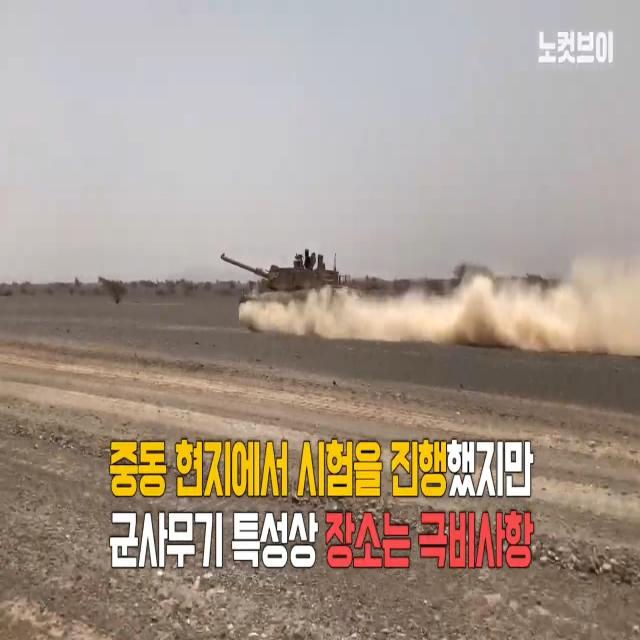korea tank: (219, 246, 359, 334)
